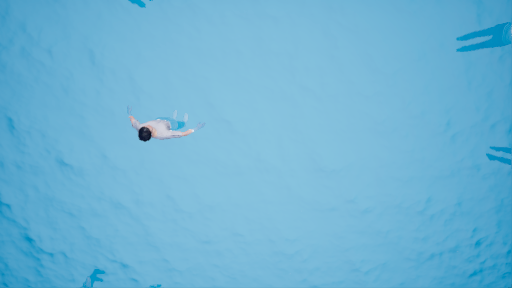person: (119, 103, 209, 143)
